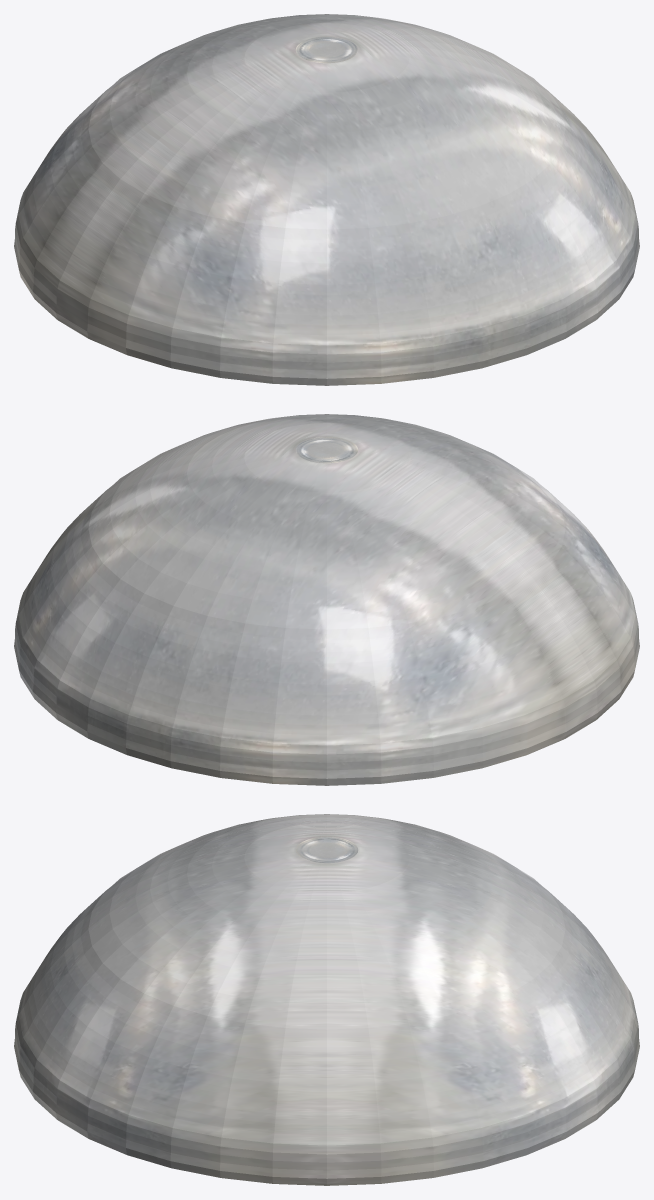
File: foot.glb
3 renders of one model, top to bottom at view 1: azimuth 30°, elevation 25°; view 2: azimuth 150°, elevation 25°; view 3: azimuth 270°, elevation 25°, orthographic.
Parts seen in each view (by area): view 1: foot; view 2: foot; view 3: foot.
Part boxes in pixels (box(x1,y1,x2,y2)): foot: box(14, 14, 639, 385); foot: box(14, 414, 639, 785); foot: box(14, 814, 639, 1185).
Size of the model in its own units: 8 by 2.99 by 8.
Materials: 1 (1 with a texture image).
